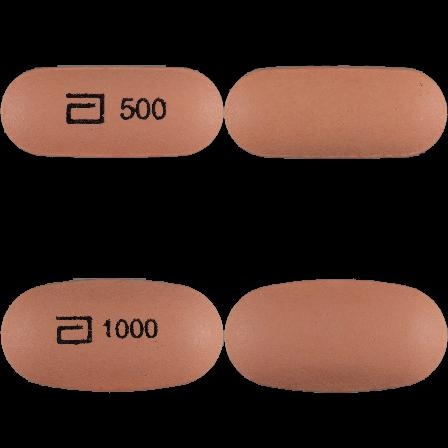0074-3074: (0, 0, 224, 224)
